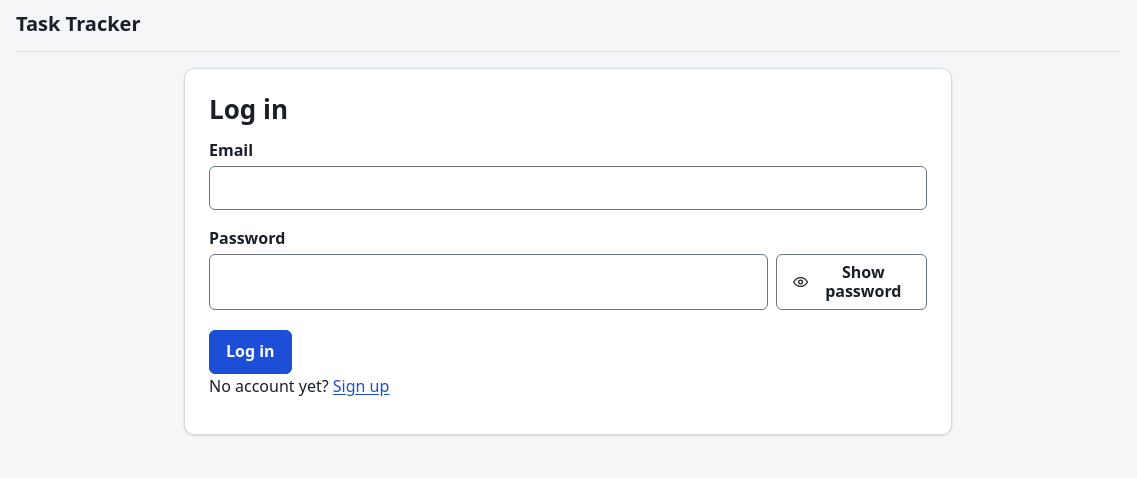
it: password toggle and an empty form after logout › the toggle switches name, aria-pressed, icon and field type, and hides again on submit
In the password field labelled "Password": (489, 282) [209,254,768,310], type "abc"
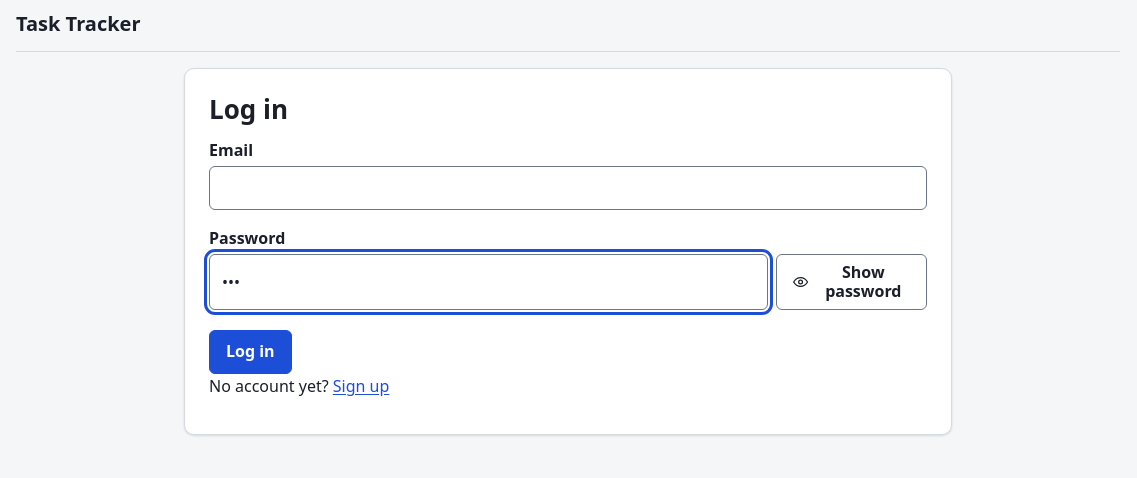
Expected: the icon with test id "icon-eye" is shown, [794,272,809,292]
Click the button "Show password": (852, 282) [776,254,927,310]
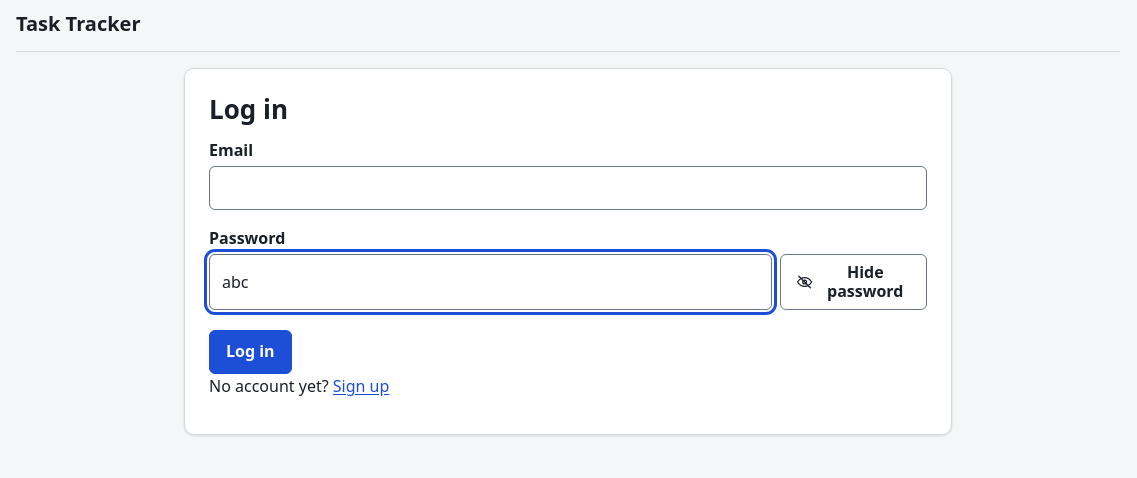
Expected: the icon with test id "icon-eye-slash" is shown, [797,272,813,292]
Expected: the field labelled "Password" shows its text, [209,254,772,310]
Click the button "Log in": (250, 352) [209,330,292,374]
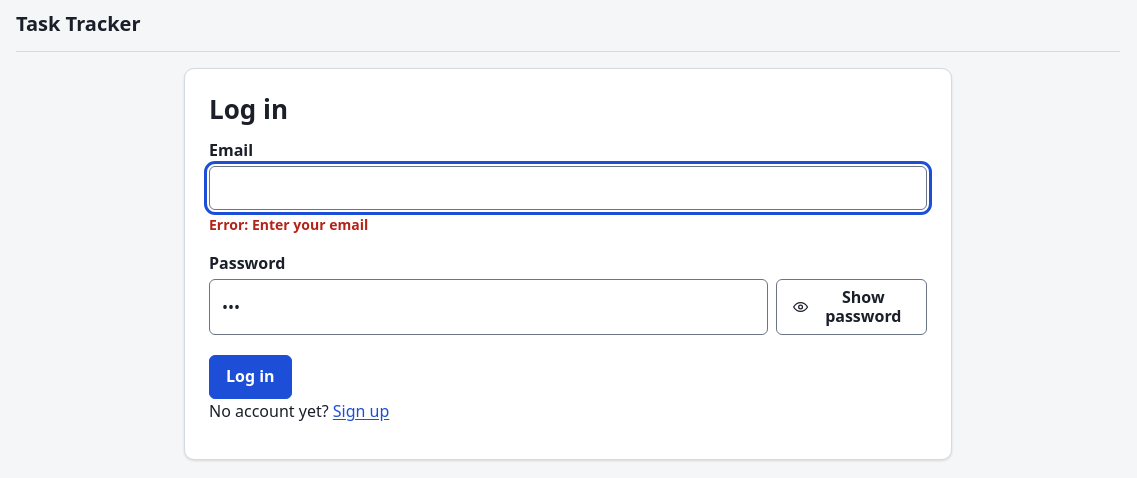
Expected: the password field labelled "Password" hides its text, [209,278,768,335]
